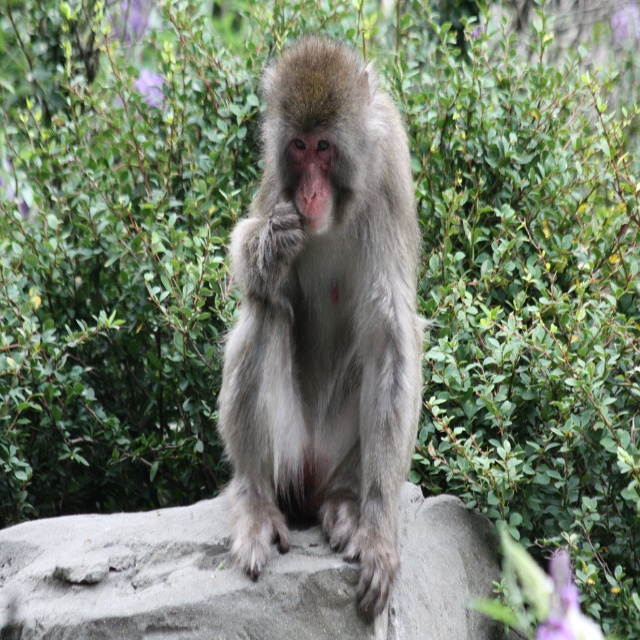Monkey: (209, 34, 438, 630)
